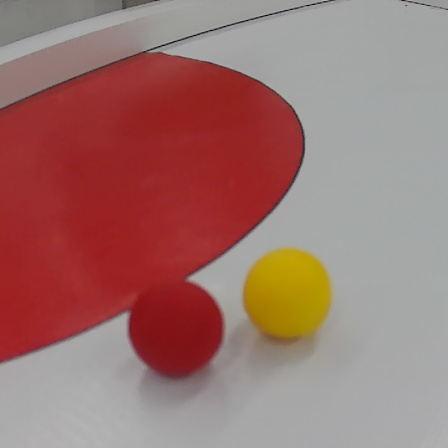red: (128, 280, 224, 379)
red_base: (0, 43, 303, 372)
yellow: (243, 246, 334, 343)
